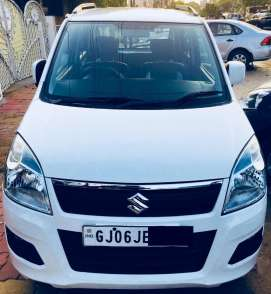nameplate: (83, 224, 194, 249)
